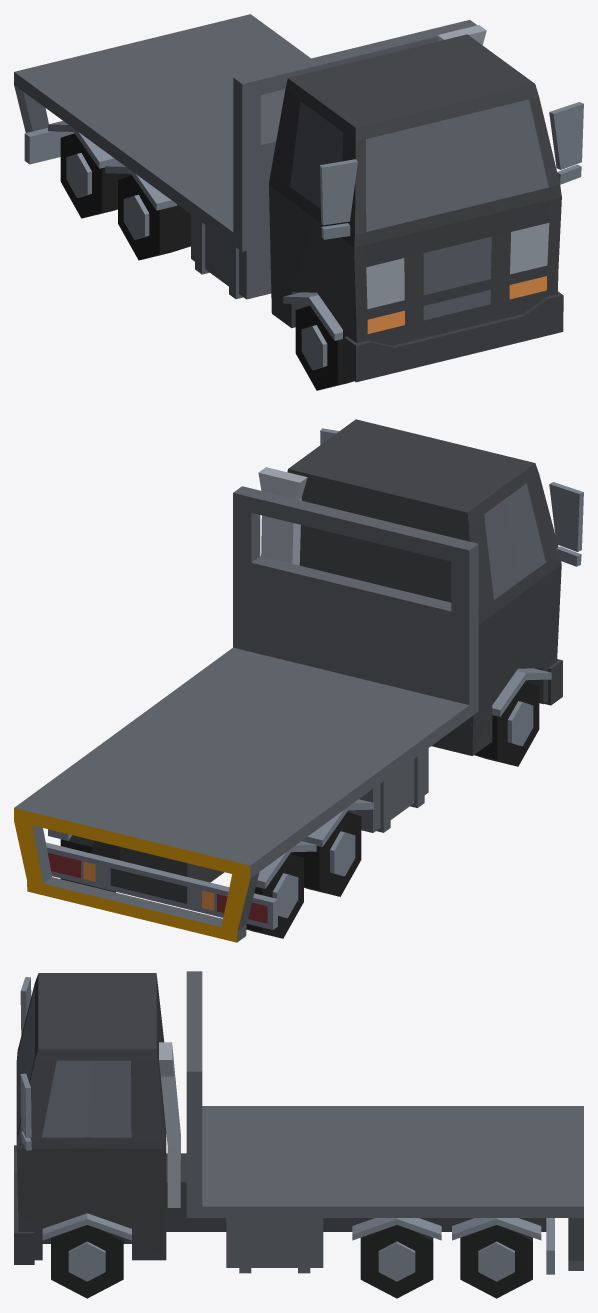
File: Vehicles_Tow_Truck.fbx
3 views of the same model, one above another, from view 1: azimuth 30°, elevation 25°; view 2: azimuth 150°, elevation 25°; view 3: azimuth 270°, elevation 25° (orthographic). The views are drawn at different scales.
Parts seen in each view (by area): view 1: Vehicles_Tow_Truck; view 2: Vehicles_Tow_Truck; view 3: Vehicles_Tow_Truck.
Boxes of the visible parts, x1,y1,x2,y2 form: Vehicles_Tow_Truck: [14, 14, 583, 390]; Vehicles_Tow_Truck: [14, 419, 583, 942]; Vehicles_Tow_Truck: [14, 971, 583, 1298].
Bounding box in the file's own units: 245 × 251 × 529.
